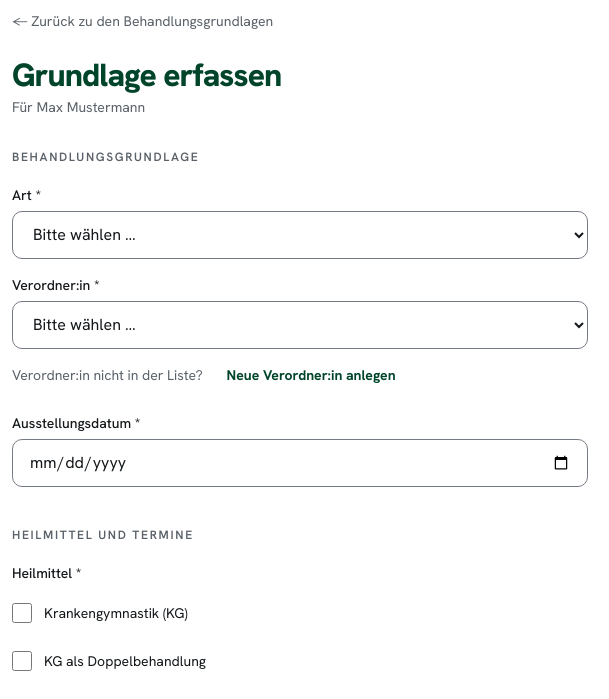
Test: NewTreatmentBasisPage › Die zweite Bauart: Selbstzahler › nennt das Datum "Vereinbart am" statt "Ausstellungsdatum"
Select "Selbstzahler" in the dropdown labelled "Art *" at (300, 235), box [12,211,588,259]
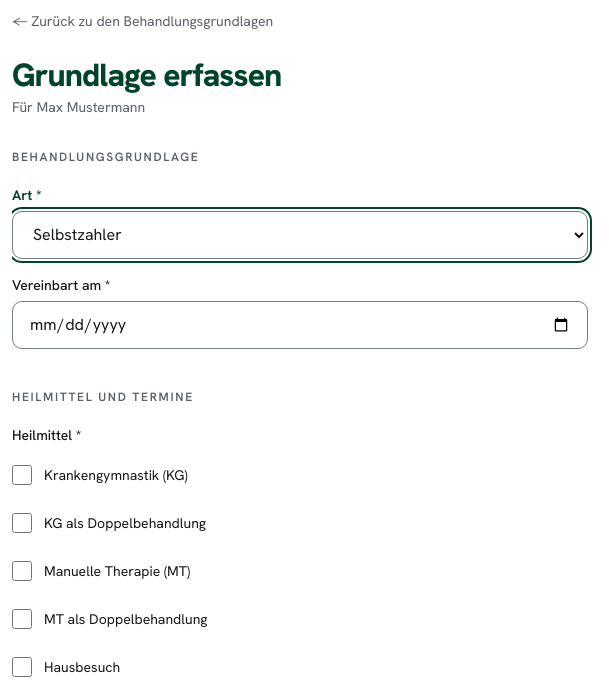
Expected: the date field labelled "Vereinbart am *" is shown, [12,301,588,349]
Expected: the label labelled "Ausstellungsdatum *" is gone
